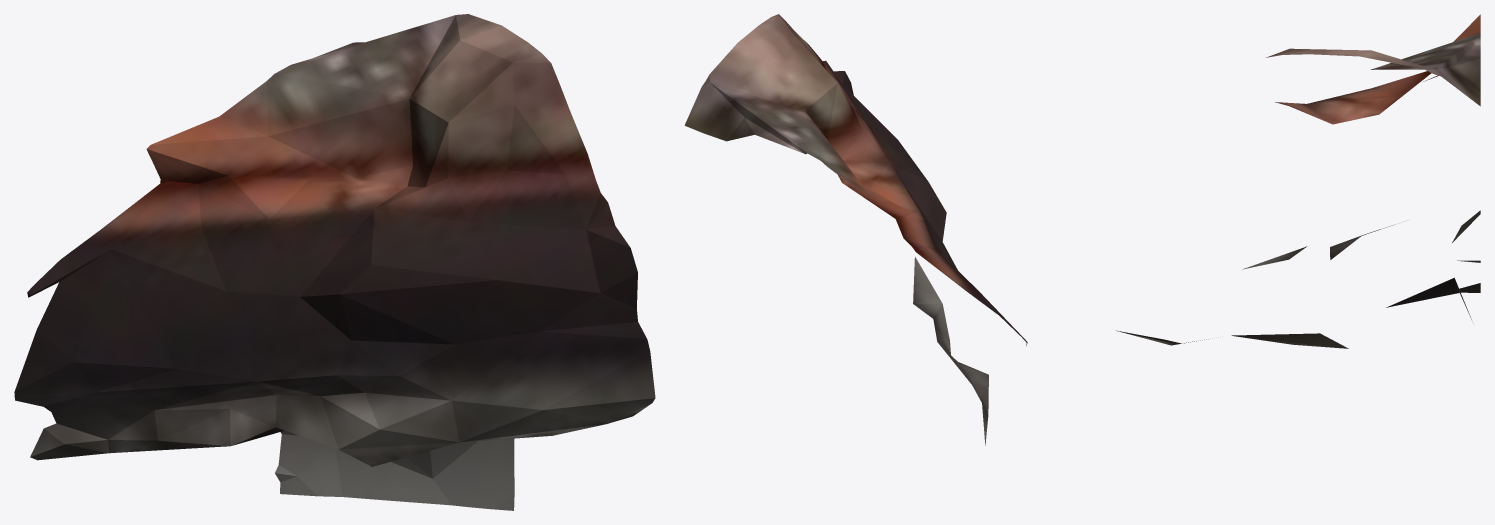
The picture shows the model from 3 angles, left to right: view 1: azimuth 30°, elevation 25°; view 2: azimuth 150°, elevation 25°; view 3: azimuth 270°, elevation 25°; orthographic projection. The views are drawn at different scales.
Bounding box in the file's own units: 0.373 × 0.4028 × 0.3315.
1 material, 1 textured.
